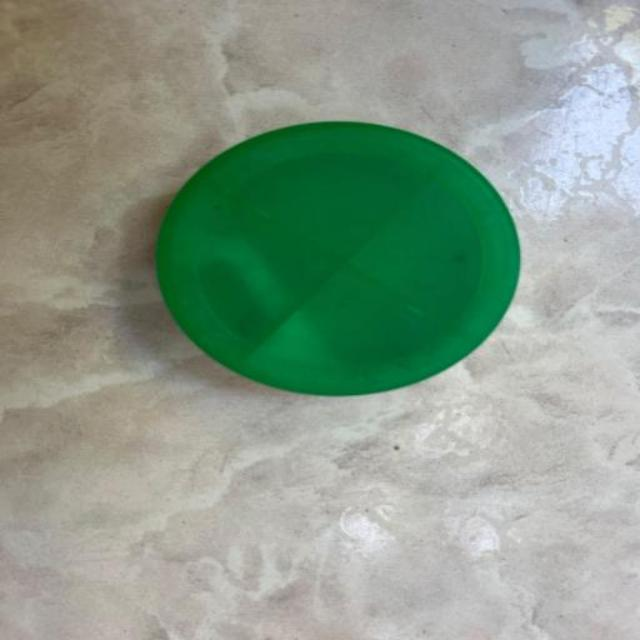HDPE: (122, 102, 503, 391)
